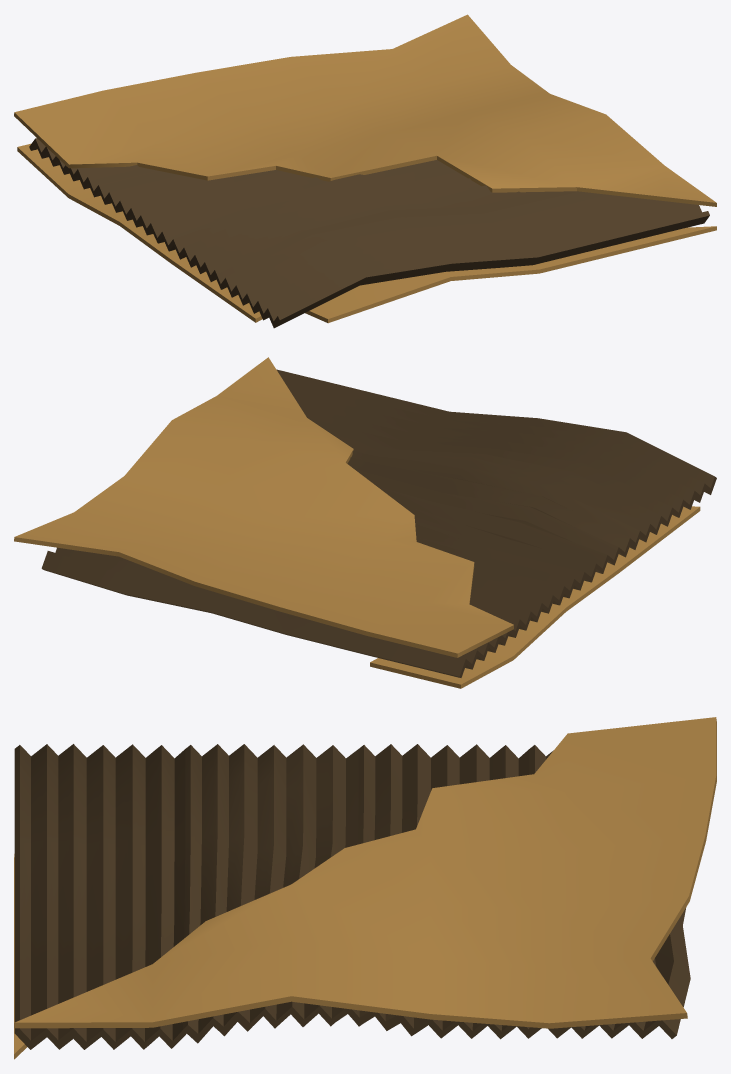
Rendered from Cardboard1.fbx.
3 views of the same model, one above another, from view 1: azimuth 30°, elevation 25°; view 2: azimuth 150°, elevation 25°; view 3: azimuth 270°, elevation 25° (orthographic). The views are drawn at different scales.
Parts seen in each view (by area): view 1: Top, Middle, Bottom; view 2: Top, Middle, Bottom; view 3: Top, Middle.
Boxes of the visible parts, left/top/right/bottom form: Top: left=14, top=14, right=716, bottom=206; Middle: left=29, top=138, right=709, bottom=328; Bottom: left=17, top=143, right=716, bottom=323; Top: left=14, top=357, right=513, bottom=657; Middle: left=41, top=369, right=716, bottom=677; Bottom: left=370, top=506, right=700, bottom=688; Top: left=14, top=717, right=716, bottom=1028; Middle: left=14, top=744, right=690, bottom=1049.
Size of the model in its own units: 15.18 by 1.72 by 15.37.
